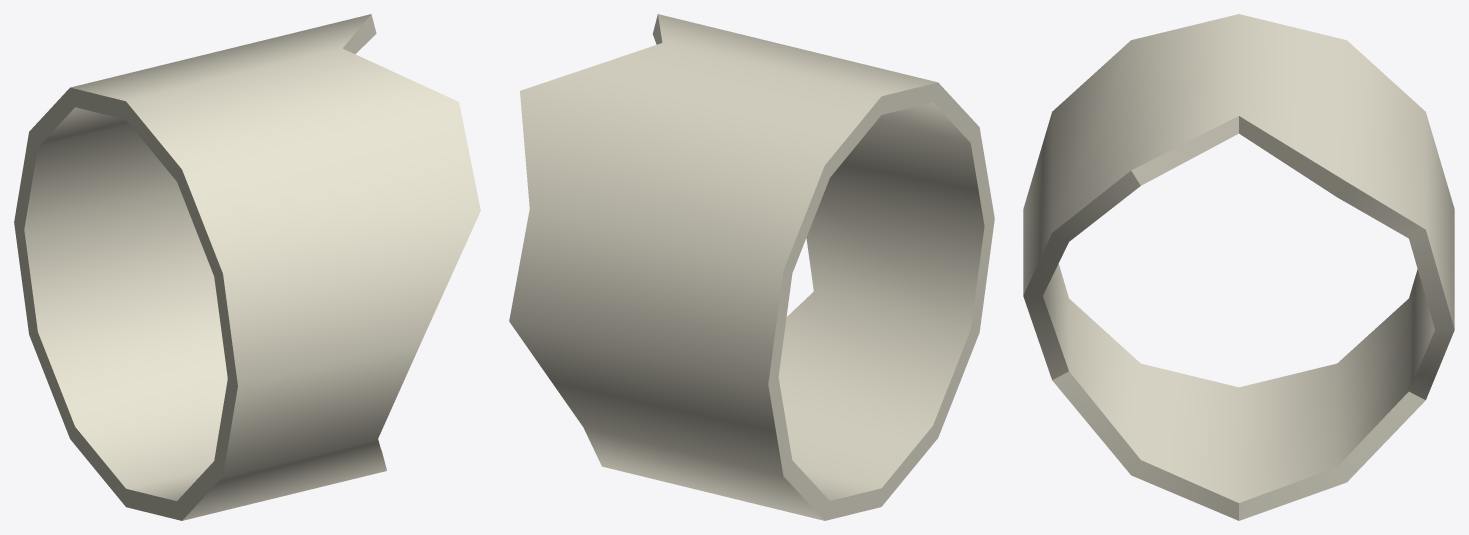
File: broken_pipe_1.fbx
The picture shows the model from 3 angles, left to right: view 1: azimuth 30°, elevation 25°; view 2: azimuth 150°, elevation 25°; view 3: azimuth 270°, elevation 25°; orthographic projection. The views are drawn at different scales.
Parts seen in each view (by area): view 1: Broken_Pipe_1; view 2: Broken_Pipe_1; view 3: Broken_Pipe_1.
Boxes of the visible parts, bbox=[...] form: Broken_Pipe_1: bbox=[14, 14, 480, 520]; Broken_Pipe_1: bbox=[509, 14, 994, 520]; Broken_Pipe_1: bbox=[1023, 14, 1454, 520].
Bounding box in the file's own units: 3.42 × 4.4 × 4.4.
